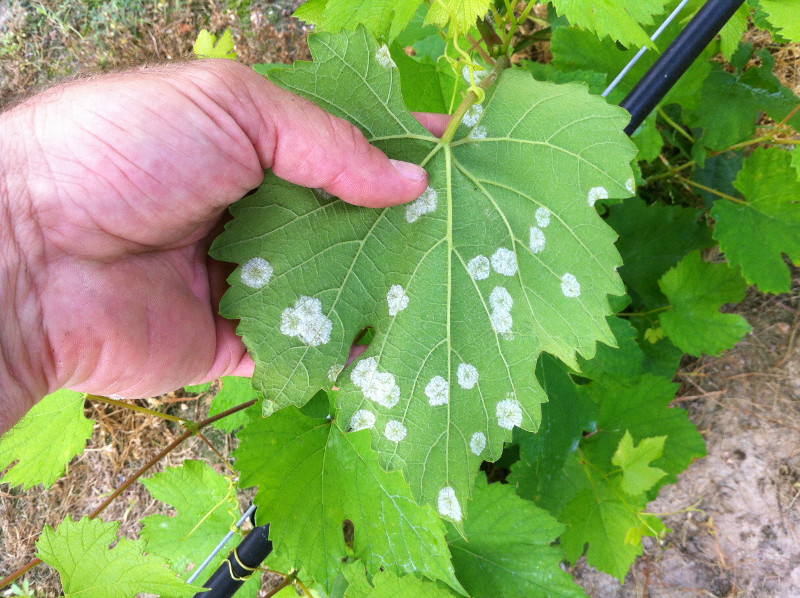downy: (349, 352, 410, 406), (279, 295, 331, 355), (424, 363, 480, 406), (348, 410, 410, 446), (459, 245, 518, 281), (478, 286, 516, 341), (429, 478, 468, 523), (524, 200, 556, 254), (238, 251, 278, 294), (374, 279, 413, 321), (492, 395, 529, 430), (552, 269, 585, 304), (459, 107, 490, 142), (371, 36, 398, 74), (458, 429, 486, 455), (578, 184, 610, 206)
